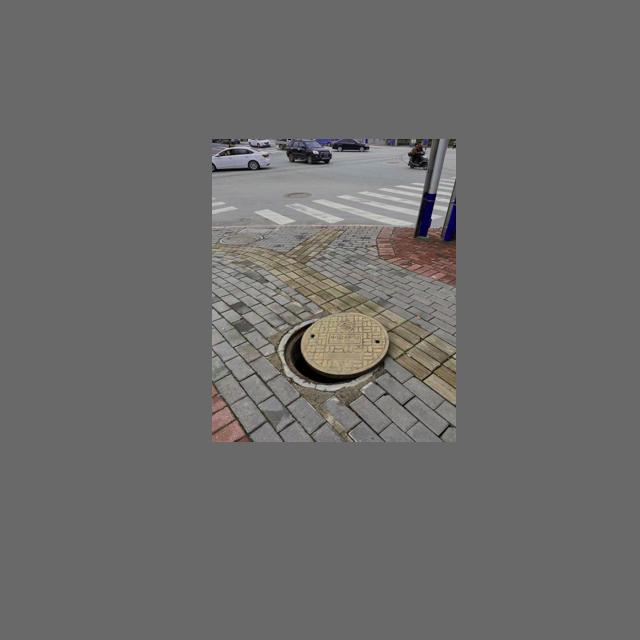uncovered: (277, 311, 389, 391)
